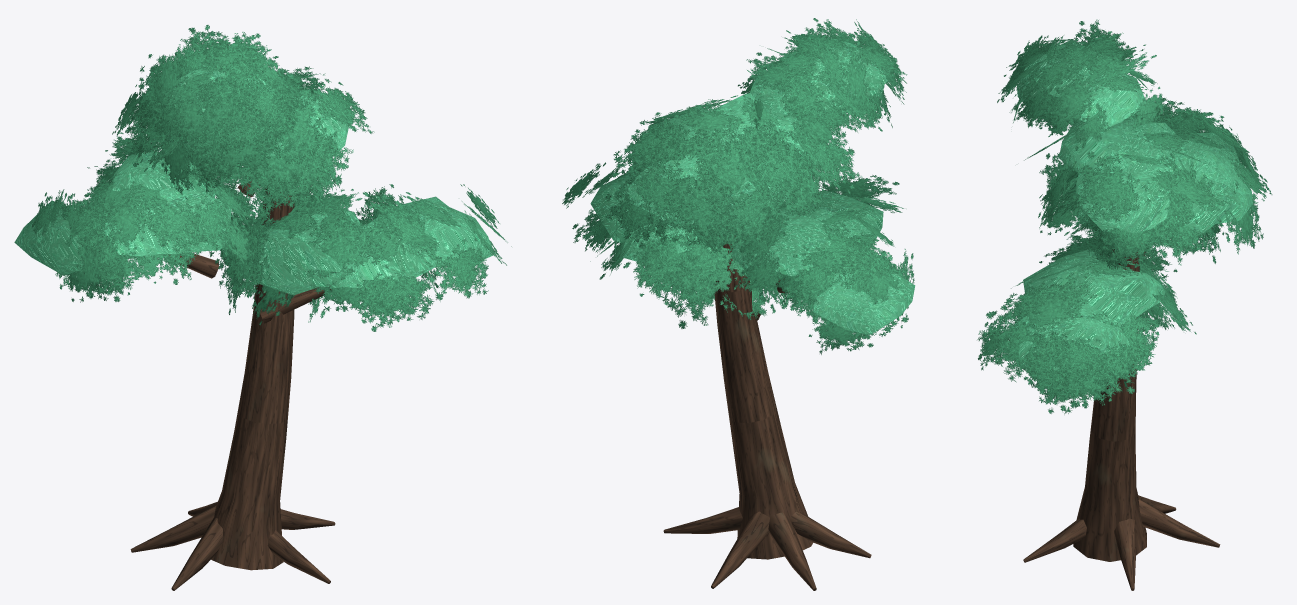
The model's file is tree_pine.gltf.
The picture shows the model from 3 angles, left to right: view 1: azimuth 30°, elevation 25°; view 2: azimuth 150°, elevation 25°; view 3: azimuth 270°, elevation 25°; orthographic projection. The views are drawn at different scales.
Visible parts, largest first — view 1: Crown, Trunk; view 2: Crown, Trunk; view 3: Crown, Trunk.
Boxes of the visible parts, x1,y1,x2,y2 form: Crown: (14,25,511,331); Trunk: (130,181,335,590); Crown: (562,18,915,354); Trunk: (663,236,871,590); Crown: (977,19,1272,414); Trunk: (1023,249,1220,590).
Bounding box in the file's own units: 7.09 × 9.01 × 5.19.
3 materials, 3 textured.
